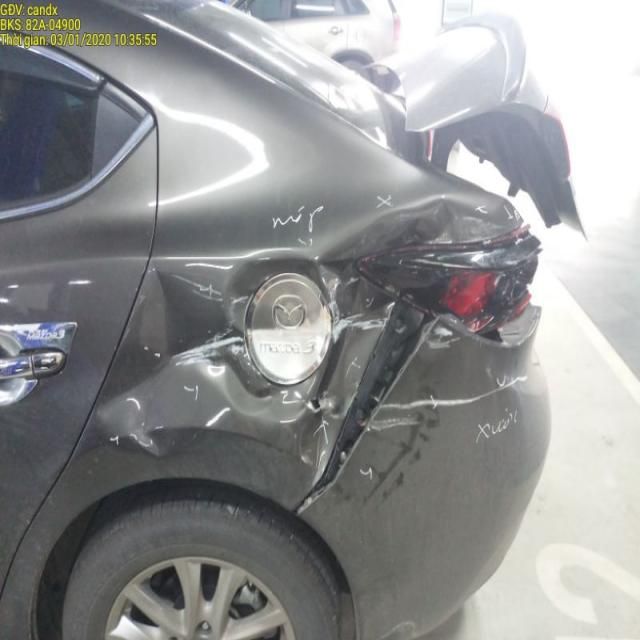Cabossage: (166, 255, 331, 454), (139, 250, 224, 393), (89, 374, 186, 475), (378, 192, 507, 255)
Dechirure: (306, 309, 436, 503)
Phare abime: (384, 250, 550, 343)
